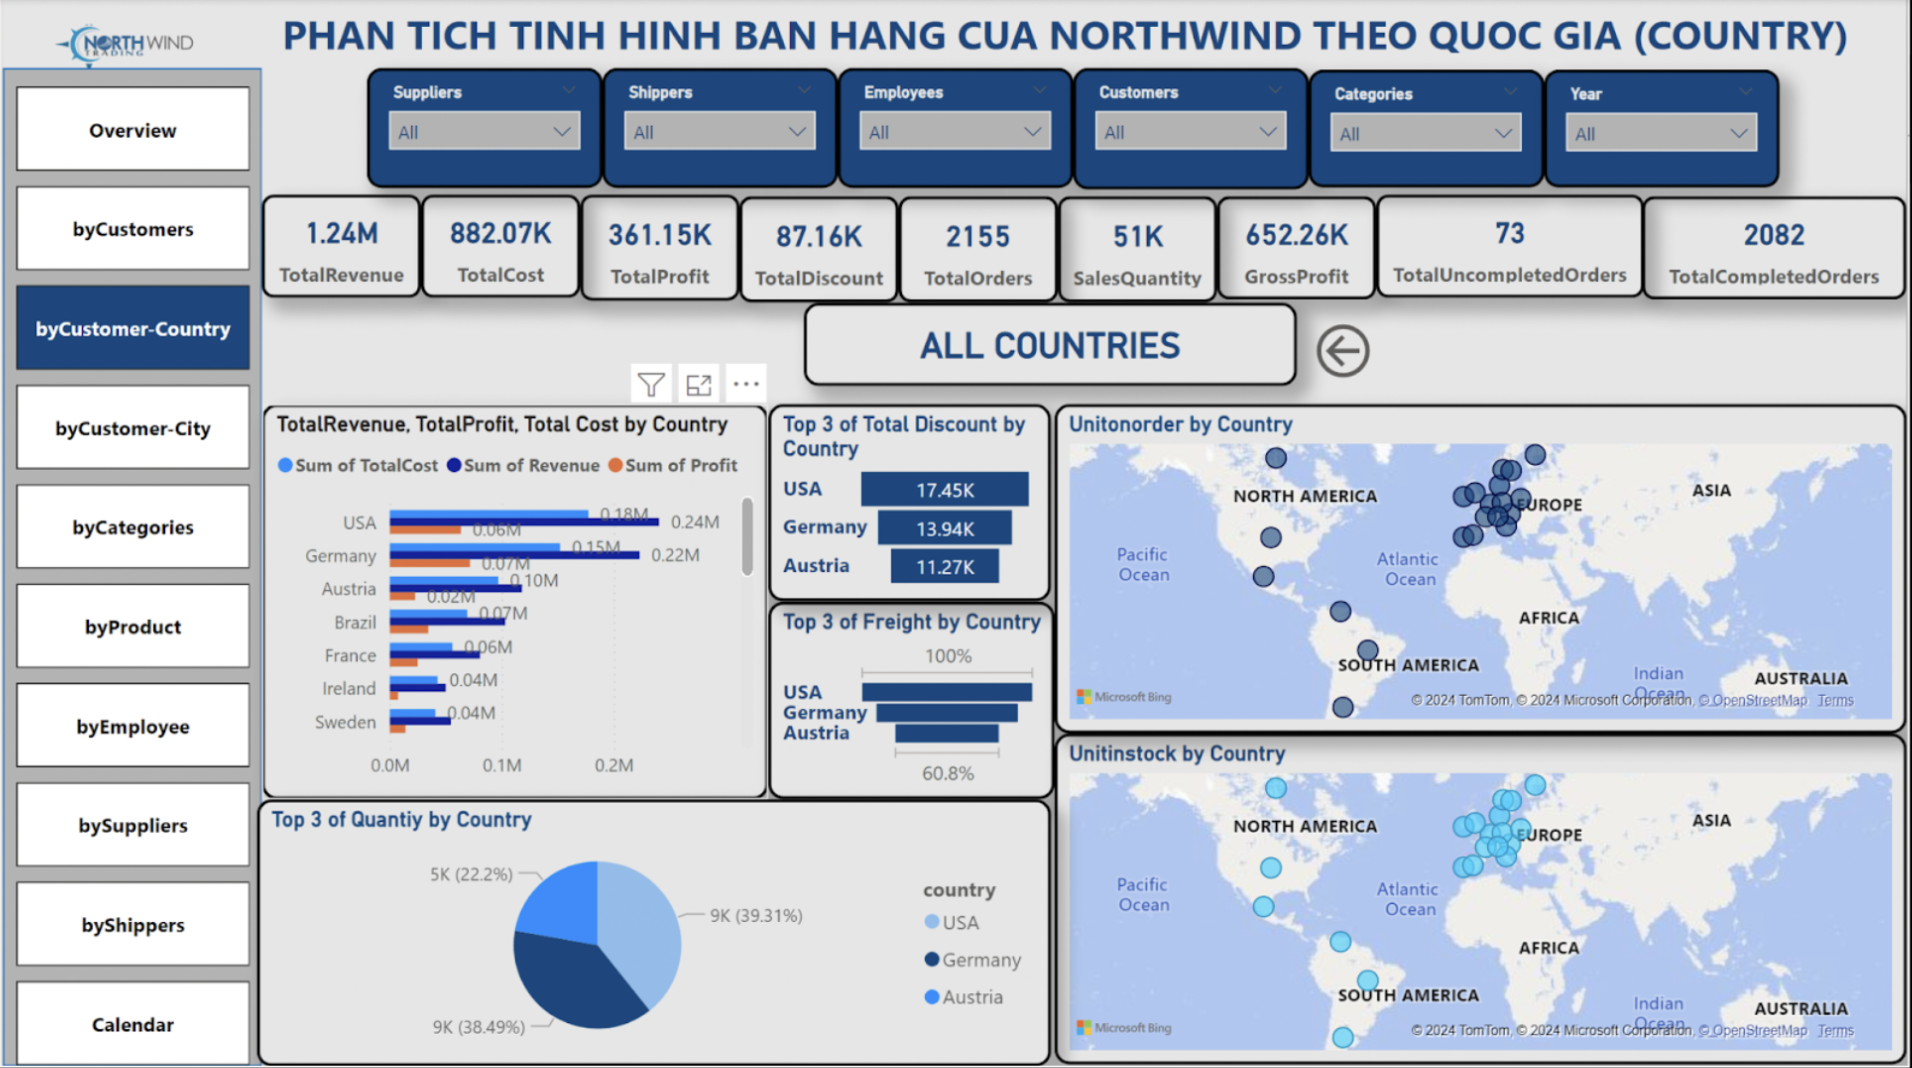

The page's visual inventory and layout, read from the dashboard file:
{"tool":"powerbi","page":{"name":"byCustomer-Country","canvas":[1280,720],"ordinal":2},"visuals":[{"type":"card","fields":{"Values":["FactOrders.TotalRevenue"]},"box":[174.2,132.1,107,69.5],"z":0},{"type":"card","fields":{"Values":["FactOrders.TotalProfit"]},"box":[388.3,132.1,107,71.7],"z":1000},{"type":"card","fields":{"Values":["Sum(FactOrders.TotalCost)"]},"box":[281.3,132.1,107,69.5],"z":2000},{"type":"card","fields":{"Values":["FactOrders.TotalDiscount"]},"box":[495.4,133.2,107,71.7],"z":3000},{"type":"card","fields":{"Values":["FactOrders.GrossProfit"]},"box":[816.5,133.2,107,69.5],"z":4000},{"type":"card","fields":{"Values":["Sum(FactOrders.Quantity)"]},"box":[709.5,133.2,107,71.7],"z":5000},{"type":"card","fields":{"Values":["FactOrders.TotalCompletedOrders"]},"box":[1102.3,133.2,177.7,69.5],"z":6000},{"type":"card","fields":{"Values":["FactOrders.TotalUncompletedOrders"]},"box":[923.6,132.1,179.9,69.5],"z":7000},{"type":"textbox","box":[148,0,1133.1,47.8],"z":8000},{"type":"card","fields":{"Values":["CountNonNull(FactOrders.OrderID)"]},"box":[602.4,133.2,107,71.7],"z":9000},{"type":"image","box":[10,10,157.2,47.8],"z":10000},{"type":"shape","box":[0,46.7,174.2,673],"z":11000},{"type":"pageNavigator","box":[9.1,59.2,157.2,660.5],"z":12000},{"type":"slicer","title":"Total Profit by Employees","fields":{"Values":["employees.fullname"]},"box":[244.3,47.3,158.3,80.9],"z":13000},{"type":"slicer","title":"Total Profit by Employees","fields":{"Values":["suppliers.companyname"]},"box":[402.6,47.3,158.3,80.9],"z":14000},{"type":"slicer","title":"Total Profit by Employees","fields":{"Values":["employees.fullname"]},"box":[560.9,47.3,158.3,80.9],"z":15000},{"type":"slicer","title":"Total Profit by Employees","fields":{"Values":["customers.contactname"]},"box":[719.1,47.3,158.3,82],"z":16000},{"type":"slicer","title":"Total Profit by Employees","fields":{"Values":["categories.categoryname"]},"box":[877.4,48.4,158.3,79.7],"z":17000},{"type":"slicer","title":"Total Profit by Employees","fields":{"Values":["shippers.companyname"]},"box":[1035.7,48.4,158.3,79.7],"z":18000},{"type":"card","title":"TotalRevenue, TotalProfit, Total Discount by Customer","fields":{"Values":["country.selectedCountry"]},"box":[538.6,205,331.4,55.8],"z":19000},{"type":"clusteredBarChart","title":"TotalRevenue, TotalProfit, Total Cost by Country","fields":{"Category":["country.country"],"Y":["Sum(FactOrders.TotalCost)","Sum(FactOrders.Revenue)","Sum(FactOrders.Profit)"]},"box":[174.2,273.3,340.5,266.5],"z":20000},{"type":"funnel","title":"Top 3 of Freight by Country","fields":{"Category":["country.country"],"Y":["Sum(FactOrders.Freight)"]},"box":[514.7,406.5,192.5,133.2],"z":21000},{"type":"funnel","title":"Top 3 of Total Discount by Country","fields":{"Category":["country.country"],"Y":["Sum(FactOrders.DiscountAmount)"]},"box":[514.7,273.3,190.2,133.2],"z":22000},{"type":"map","title":"Unitinstock by Country","fields":{"Category":["country.country"],"Size":["Sum(products.unitsinstock)"]},"box":[707.2,495.4,572.8,223.2],"z":23000},{"type":"map","title":"Unitonorder by Country","fields":{"Category":["country.country"],"Size":["Sum(products.unitsonorder)"]},"box":[707.2,273.3,572.8,222.1],"z":24000},{"type":"pieChart","title":"Top 3 of Quantiy by Country","fields":{"Category":["country.country"],"Y":["Sum(FactOrders.Quantity)"]},"box":[170.8,539.8,534.1,179.9],"z":25000},{"type":"actionButton","box":[878,214.1,116.2,46.7],"z":26000}]}

Visuals, with their boxes in screenshot pixels (x1, y1, x2, y2), scaled from the page's 1280x720 canvas onto the 1912x1068 screenshot:
card - FactOrders.TotalRevenue: box=[260, 196, 420, 299]
card - FactOrders.TotalProfit: box=[580, 196, 740, 302]
card - Sum(FactOrders.TotalCost): box=[420, 196, 580, 299]
card - FactOrders.TotalDiscount: box=[740, 198, 900, 304]
card - FactOrders.GrossProfit: box=[1220, 198, 1379, 301]
card - Sum(FactOrders.Quantity): box=[1060, 198, 1220, 304]
card - FactOrders.TotalCompletedOrders: box=[1647, 198, 1911, 301]
card - FactOrders.TotalUncompletedOrders: box=[1380, 196, 1648, 299]
textbox: box=[221, 0, 1911, 71]
card - CountNonNull(FactOrders.OrderID): box=[900, 198, 1060, 304]
image: box=[15, 15, 250, 86]
shape: box=[0, 69, 260, 1067]
pageNavigator: box=[14, 88, 248, 1067]
"Total Profit by Employees" slicer: box=[365, 70, 601, 190]
"Total Profit by Employees" slicer: box=[601, 70, 838, 190]
"Total Profit by Employees" slicer: box=[838, 70, 1074, 190]
"Total Profit by Employees" slicer: box=[1074, 70, 1311, 192]
"Total Profit by Employees" slicer: box=[1311, 72, 1547, 190]
"Total Profit by Employees" slicer: box=[1547, 72, 1784, 190]
"TotalRevenue, TotalProfit, Total Discount by Customer" card: box=[805, 304, 1300, 387]
"TotalRevenue, TotalProfit, Total Cost by Country" clusteredBarChart: box=[260, 405, 769, 801]
"Top 3 of Freight by Country" funnel: box=[769, 603, 1056, 801]
"Top 3 of Total Discount by Country" funnel: box=[769, 405, 1053, 603]
"Unitinstock by Country" map: box=[1056, 735, 1911, 1066]
"Unitonorder by Country" map: box=[1056, 405, 1911, 735]
"Top 3 of Quantiy by Country" pieChart: box=[255, 801, 1053, 1067]
actionButton: box=[1312, 318, 1485, 387]
